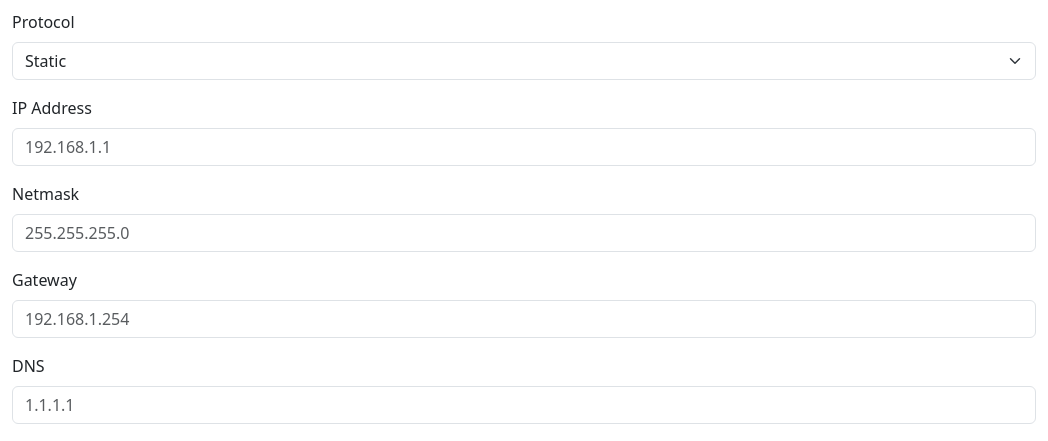
ProtoAwareFields › drops the static addressing fields when the protocol is switched to dhcpv6
Select "DHCPv6" in the dropdown labelled "Protocol" at {"x": 524, "y": 61}, box [12, 42, 1036, 80]
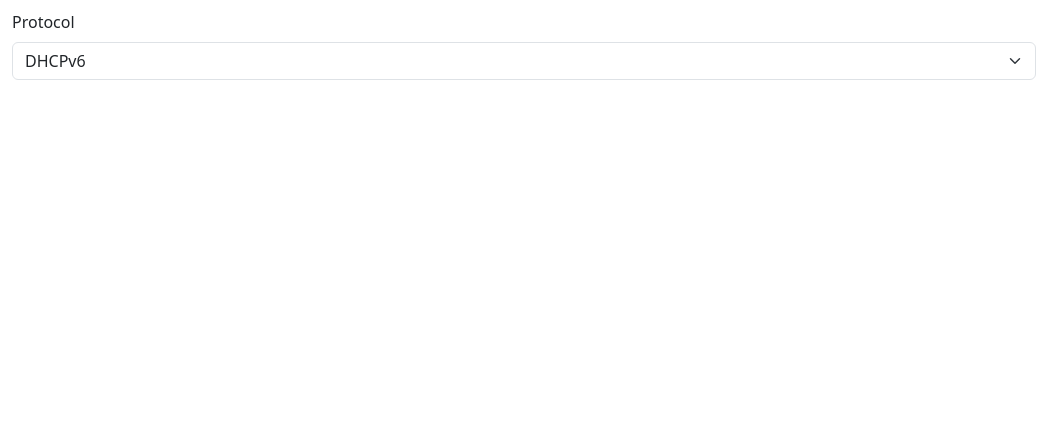
expect the label labelled "DNS" is gone: met
